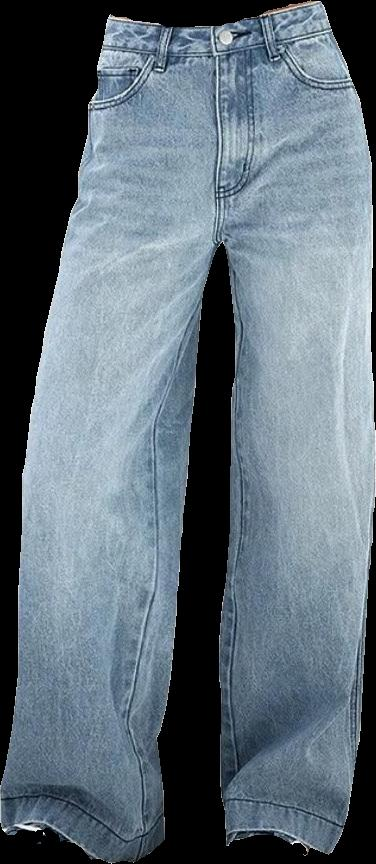Hemline: (4, 822, 166, 863), (226, 826, 327, 857)
Pantleg: (0, 15, 219, 862), (213, 2, 375, 853)
Waistline: (101, 26, 335, 65), (106, 0, 325, 34)
